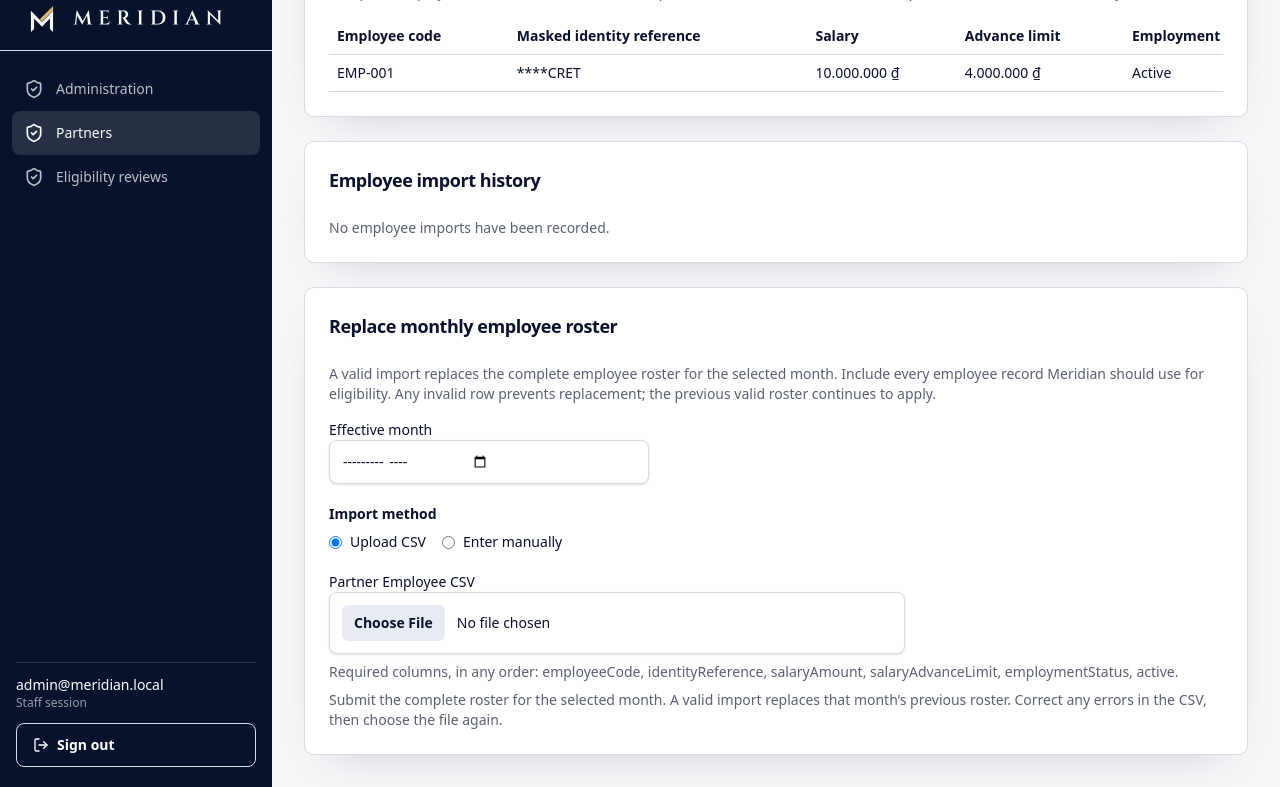
Partner administration pages › shows company and import commands only with read plus manage
(page scrolled)
Expected: the radio button labelled "Upload CSV" is checked, [329,536,342,548]
Expected: the file field labelled "Partner Employee CSV" is shown, [329,592,905,654]
Step 1. Click the radio button labelled "Enter manually" → coordinates (448, 542), box [442,536,455,548]
(page scrolled)
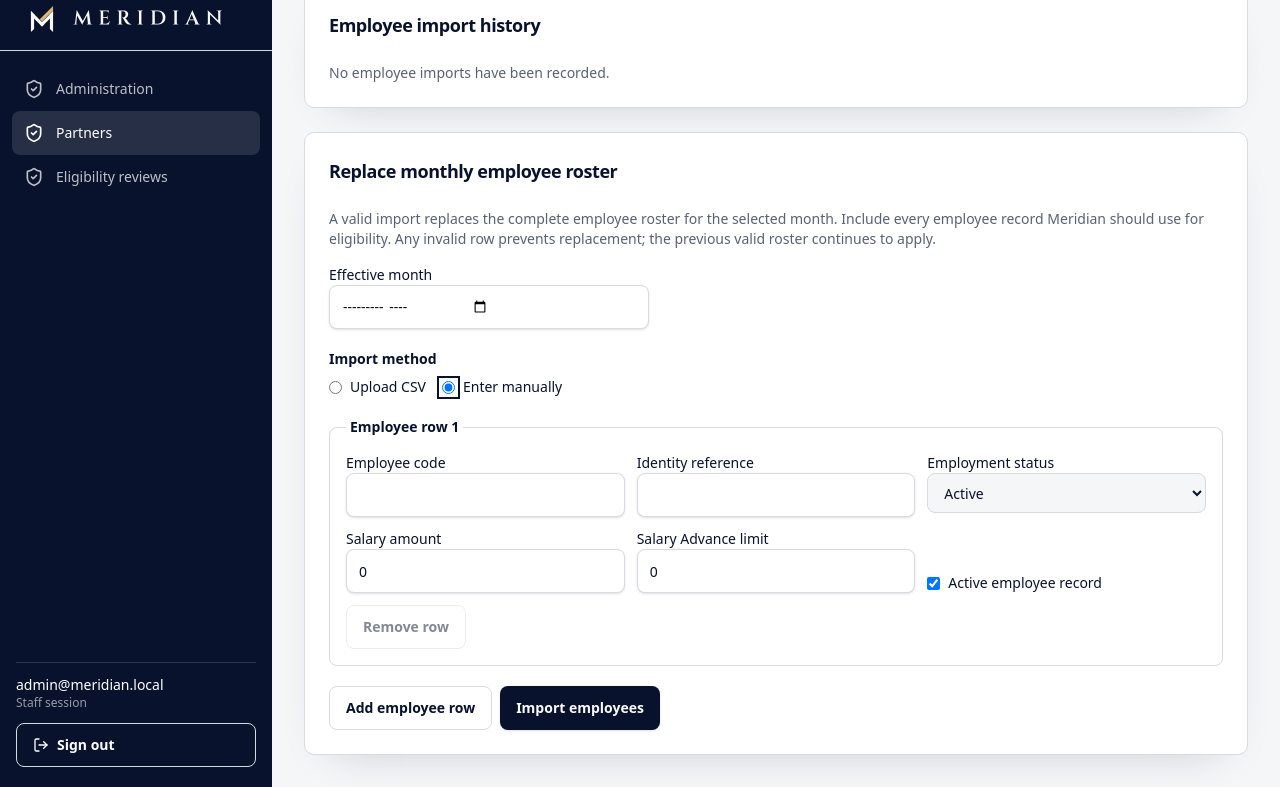
Expected: the button "Import employees" is shown, [500,686,660,730]
Expected: the button "Add employee row" is shown, [329,686,492,730]
